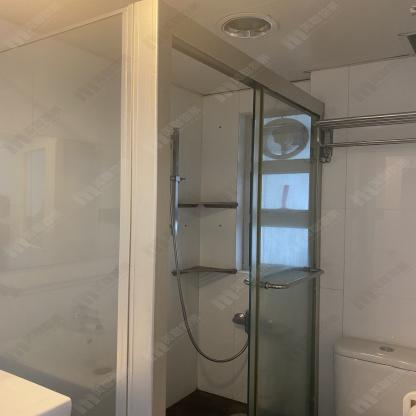Exhaust Fan: (264, 114, 310, 160)
Toilet: (333, 337, 415, 416)
Water Cubicle: (1, 0, 325, 416)
